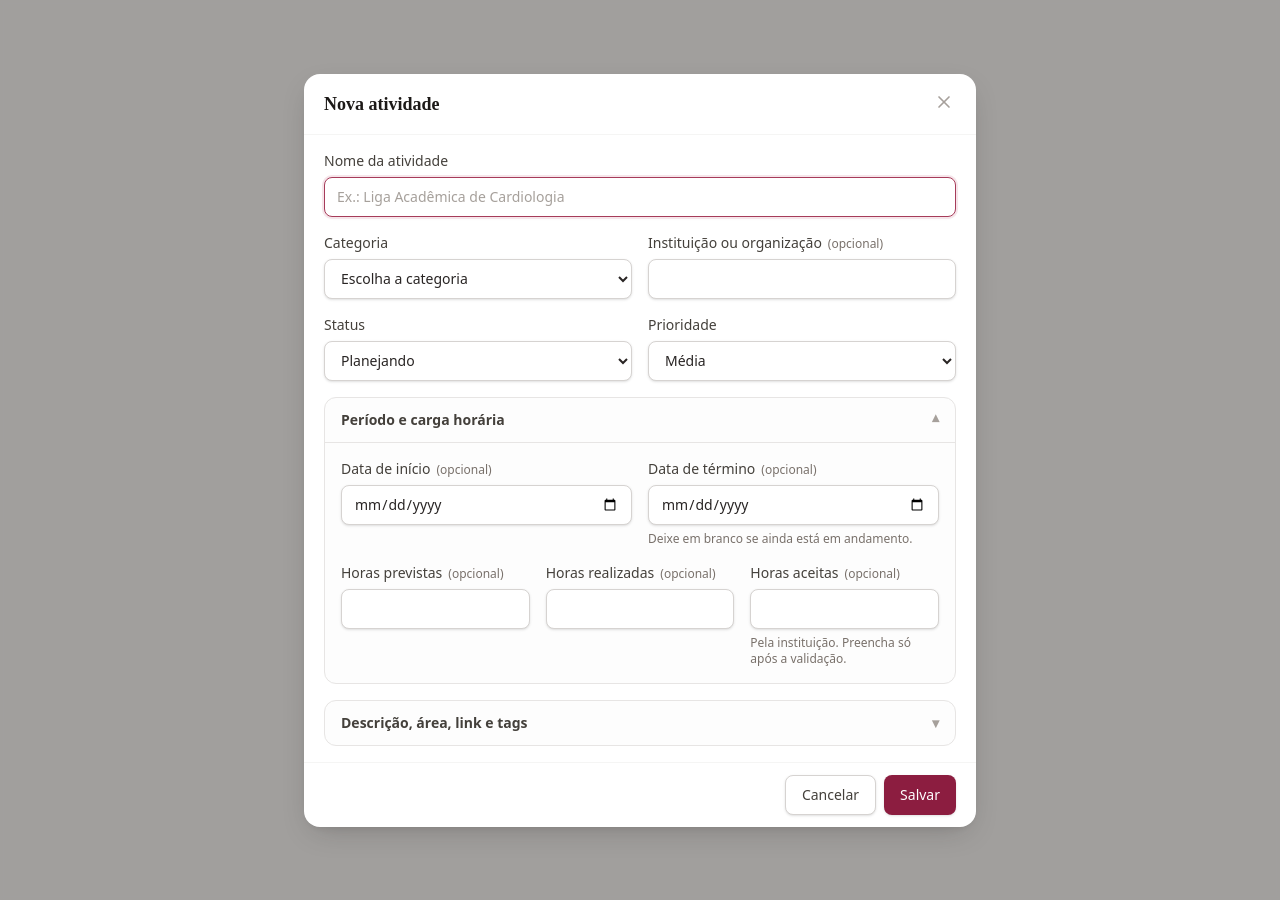
FormularioAtividade › mostra os campos e os status da categoria escolhida
The width and height of the screenshot is (1280, 900).
Select "Ligas acadêmicas" in the dropdown labelled "Categoria": [478, 278] box x1=324 y1=258 x2=632 y2=298
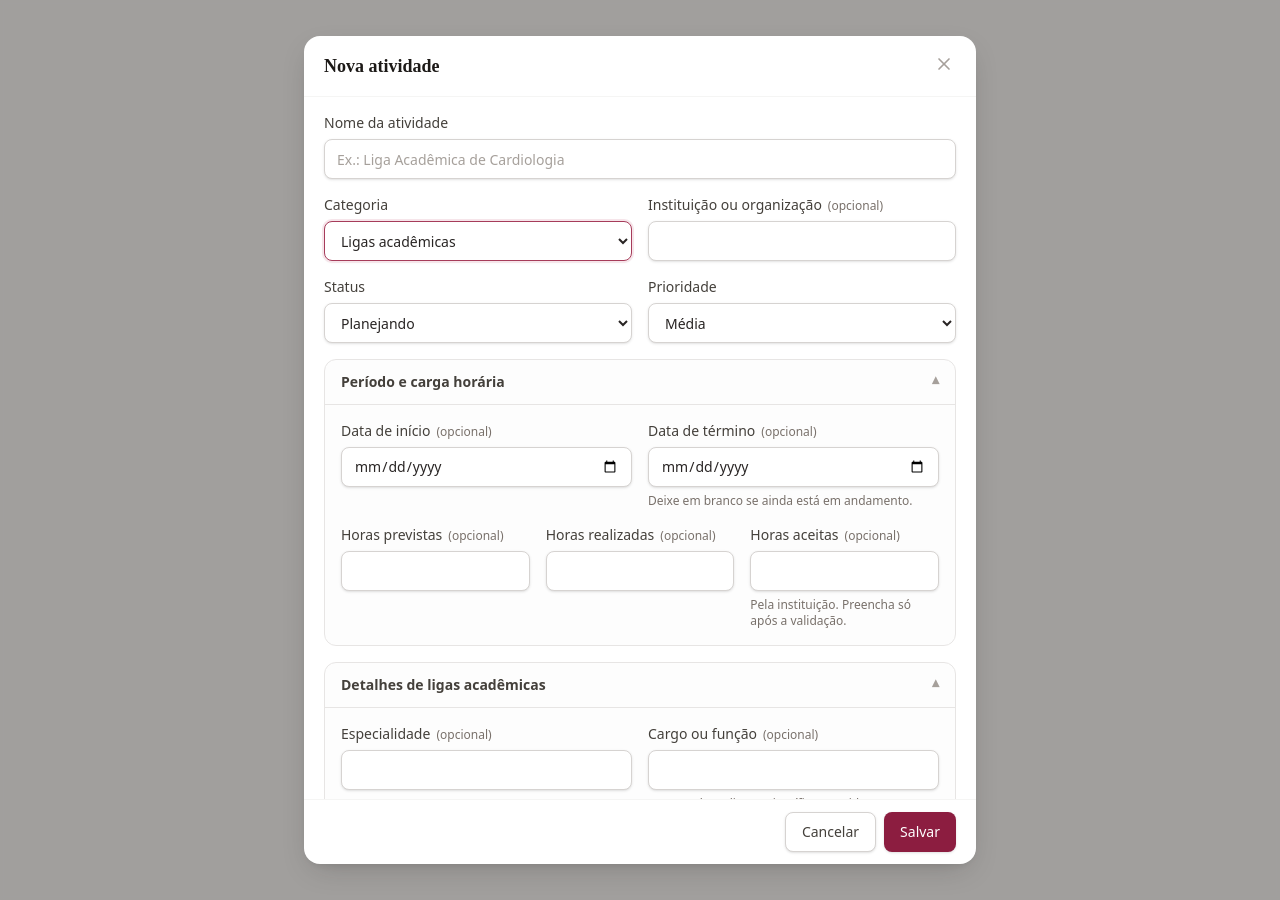
Check: the field labelled "DOI" is not shown
Check: the field labelled "Cargo ou função (opcional)" is shown, box x1=648 y1=750 x2=939 y2=790
Select "Inscrição realizada" in the dropdown labelled "Status": [478, 323] box x1=324 y1=303 x2=632 y2=343
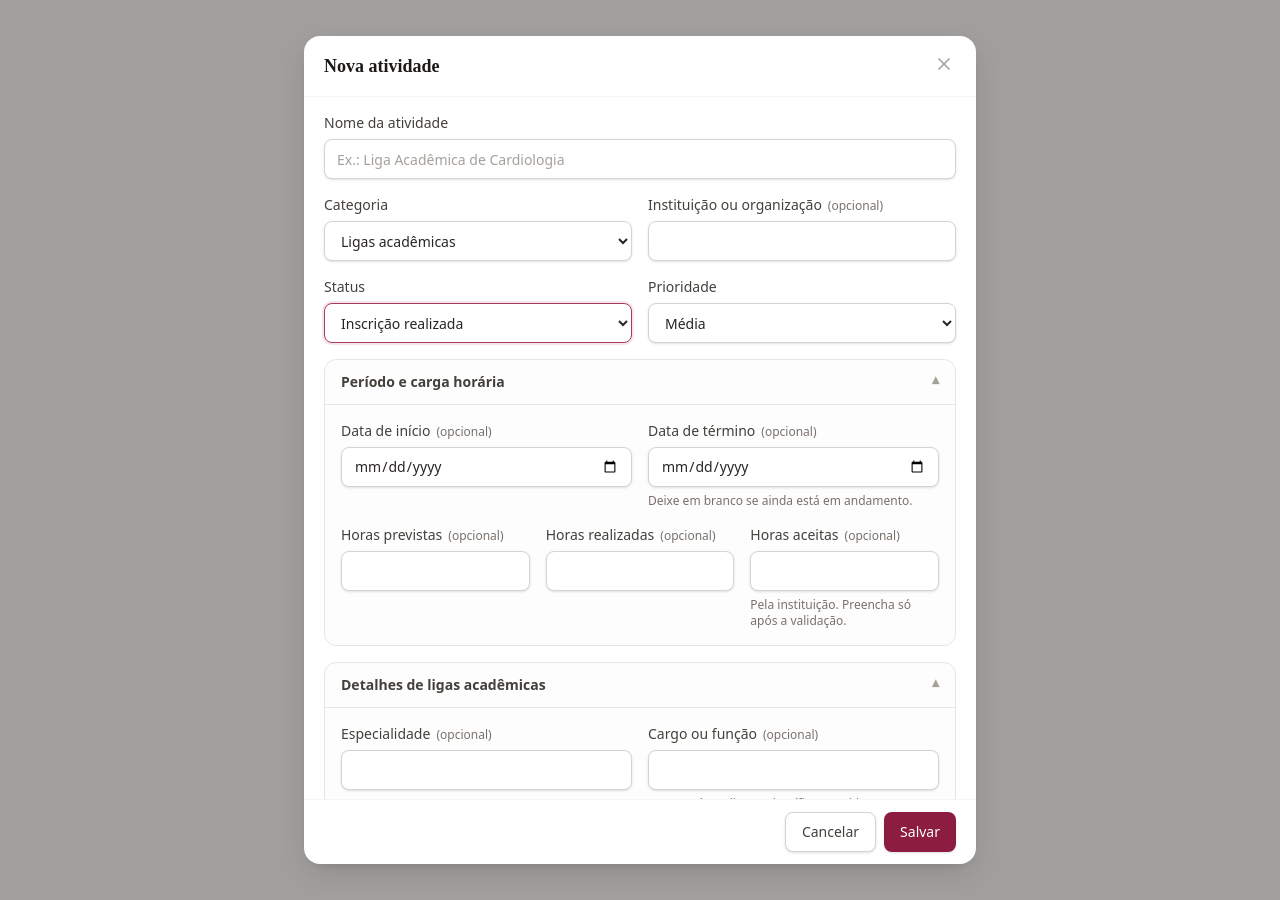
Select "Artigos científicos e publicações" in the dropdown labelled "Categoria": [478, 241] box x1=324 y1=221 x2=632 y2=261
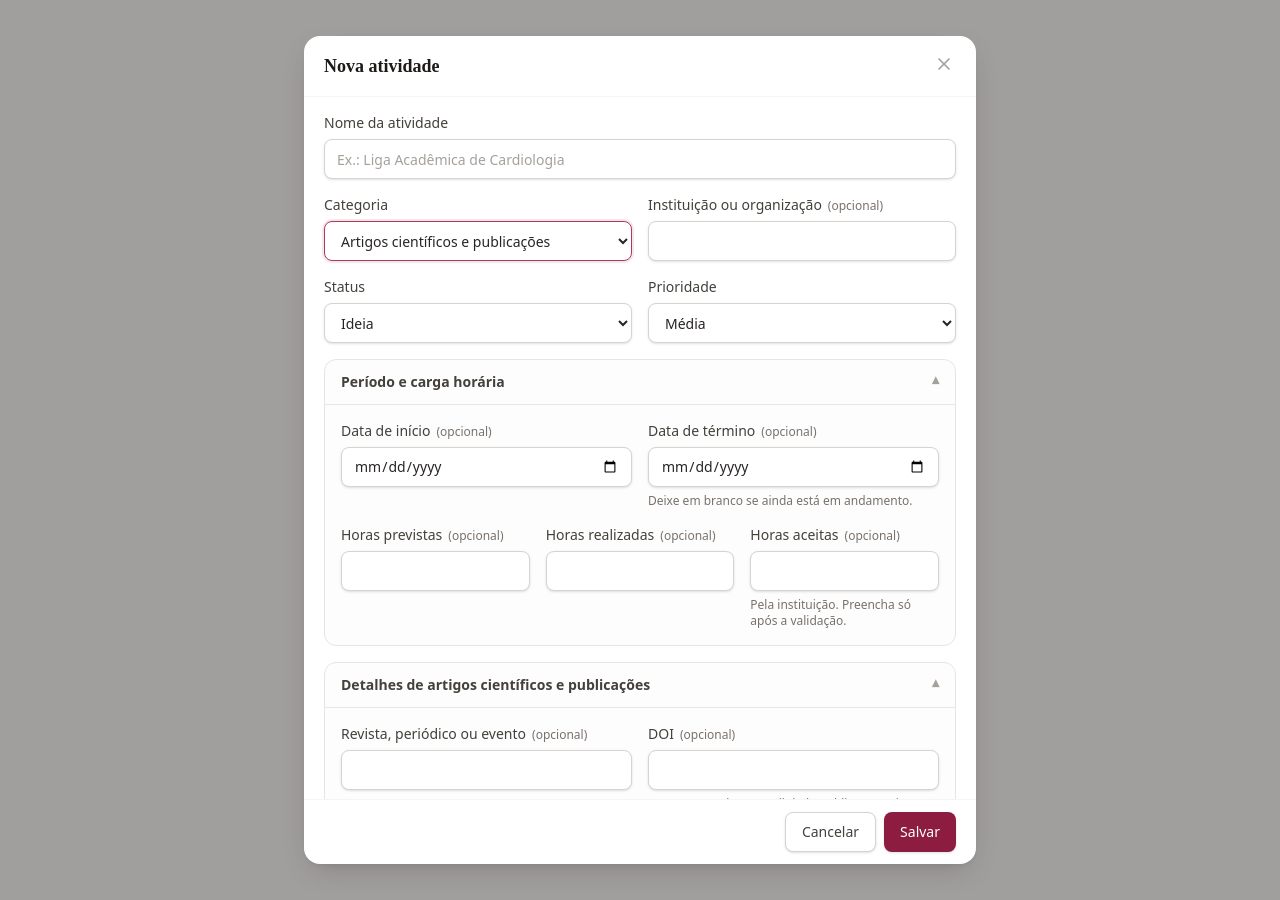
Check: the field labelled "DOI (opcional)" is shown, box x1=648 y1=750 x2=939 y2=790
Check: the label labelled "Cargo ou função" is gone
